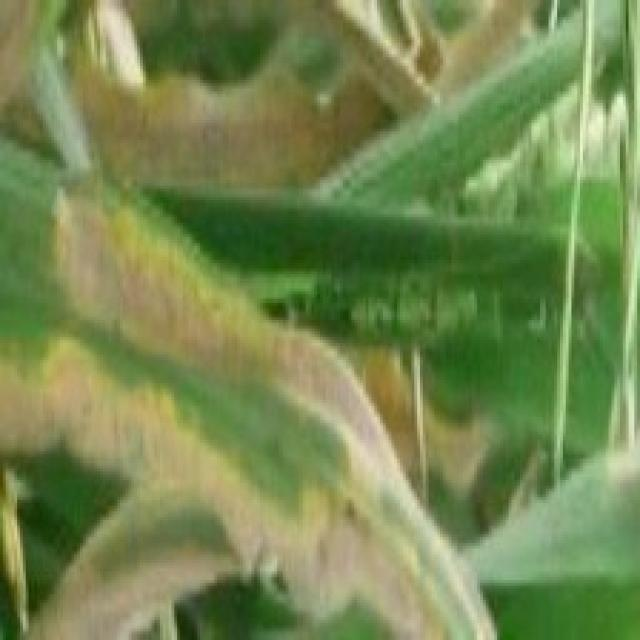Unhealthy: (0, 182, 453, 640), (22, 335, 496, 640), (0, 0, 548, 197)
